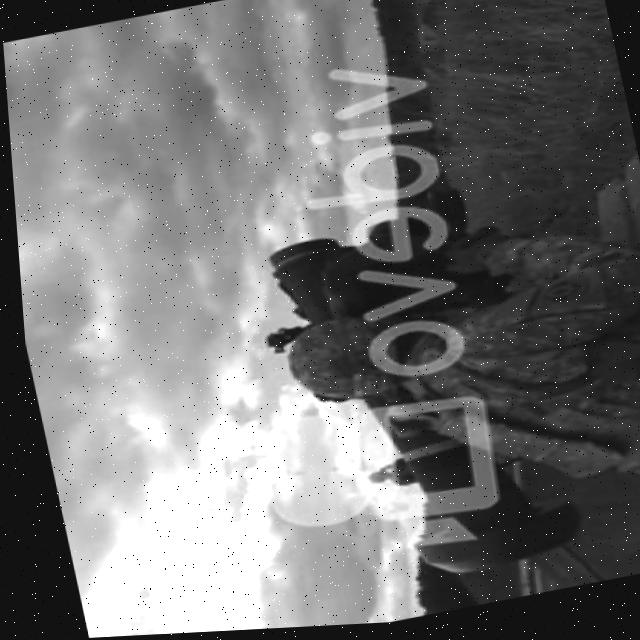rocket: (235, 198, 598, 609)
